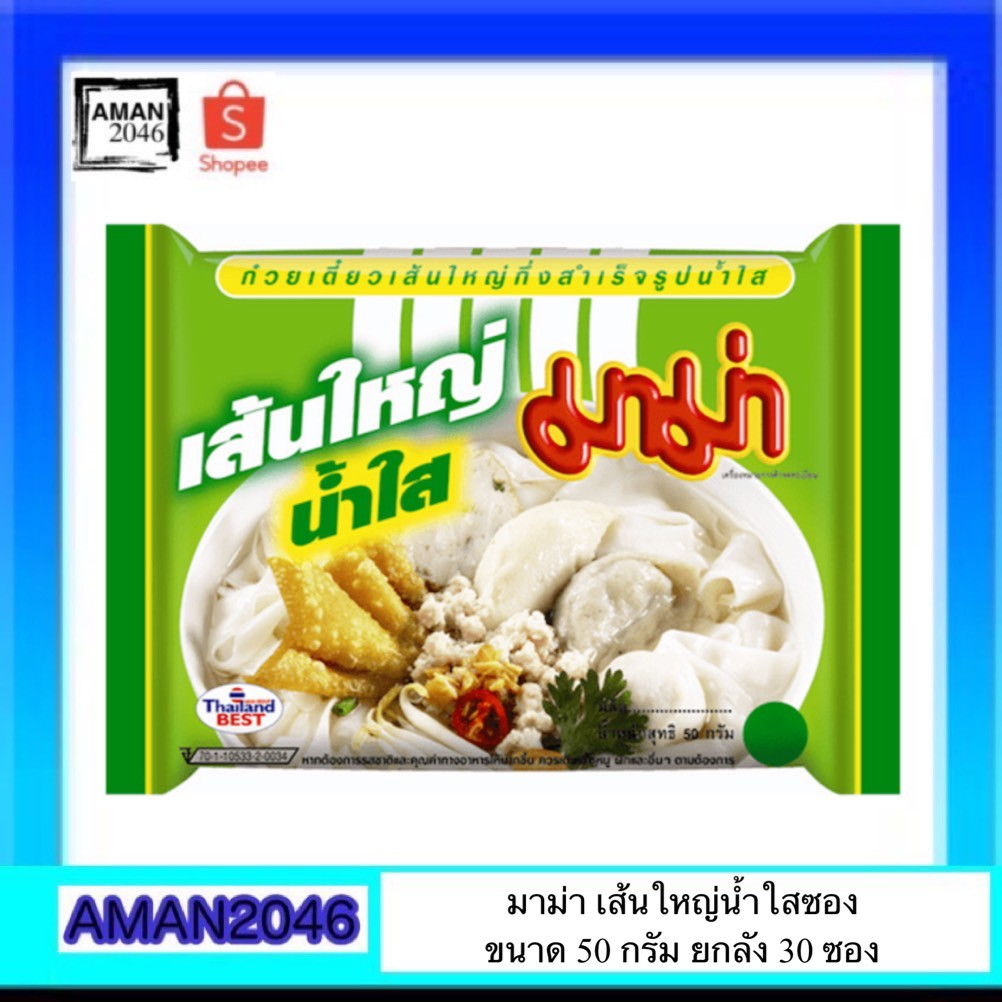Snack: (87, 213, 912, 813)
